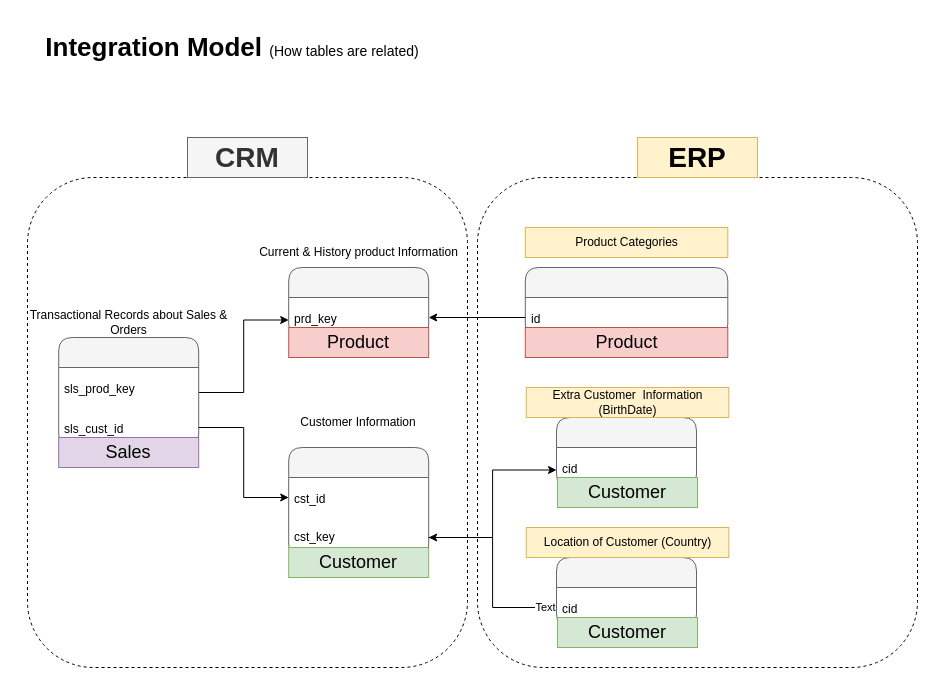
This 935x685 diagram has some shape labels left out. The shapes that lost their labels are listed below. From the top down, each one's box as (x1, y1, x2, y2) in pixels, then its label:
(288, 266, 429, 338): crm_prd_info
(524, 266, 728, 338): bronze . erp_px_cat_g1v2
(58, 336, 199, 448): crm_sales_details
(556, 416, 696, 488): erp_cust_az12
(288, 446, 429, 558): crm_cust_info
(556, 556, 696, 628): erp_loc_a101
